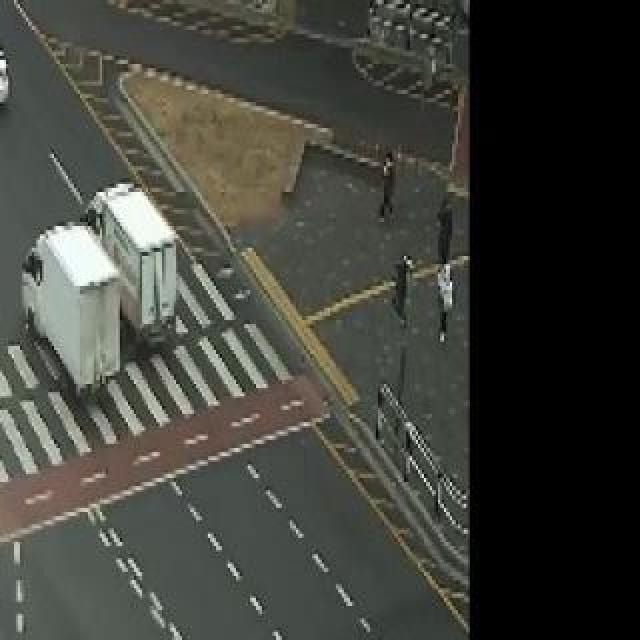truck: (13, 207, 123, 415), (89, 152, 189, 364)
